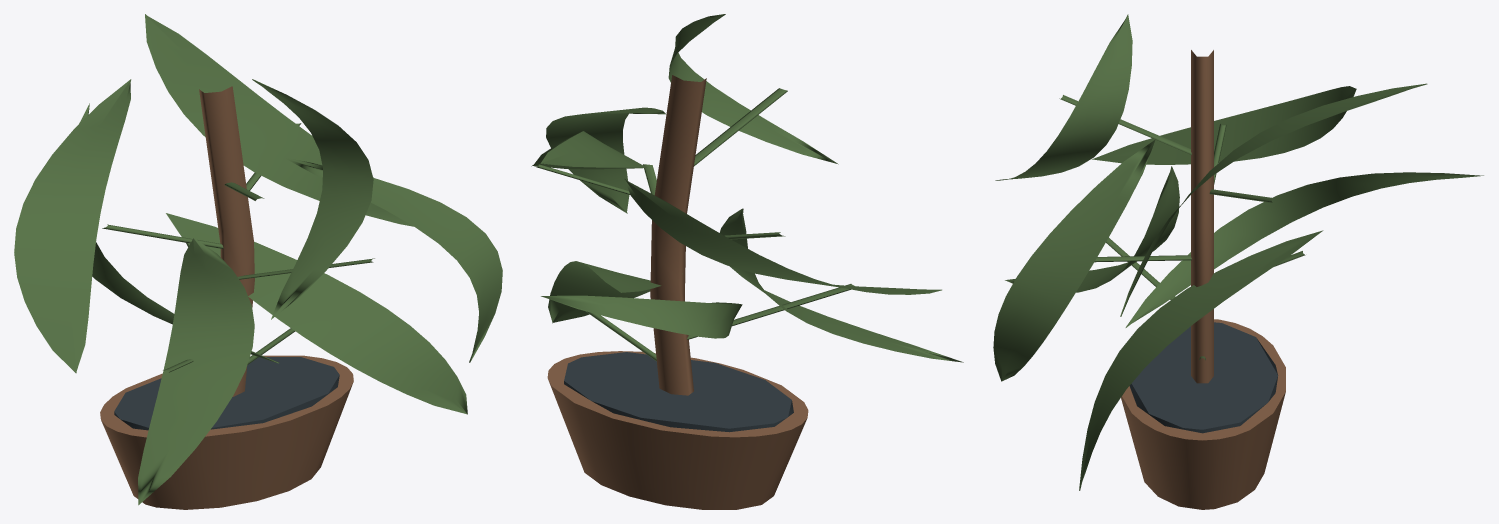
Rendered from plant-14-3.lod.glb.
The picture shows the model from 3 angles, left to right: view 1: azimuth 30°, elevation 25°; view 2: azimuth 150°, elevation 25°; view 3: azimuth 270°, elevation 25°; orthographic projection. The views are drawn at different scales.
Parts seen in each view (by area): view 1: part (×10); view 2: part (×10); view 3: part (×10).
Boxes of the visible parts, left/top/right/bottom form: part (×10): left=14, top=14, right=502, bottom=509; part (×10): left=531, top=14, right=963, bottom=509; part (×10): left=993, top=14, right=1483, bottom=509.
Size of the model in its own units: 1 by 1 by 1.
